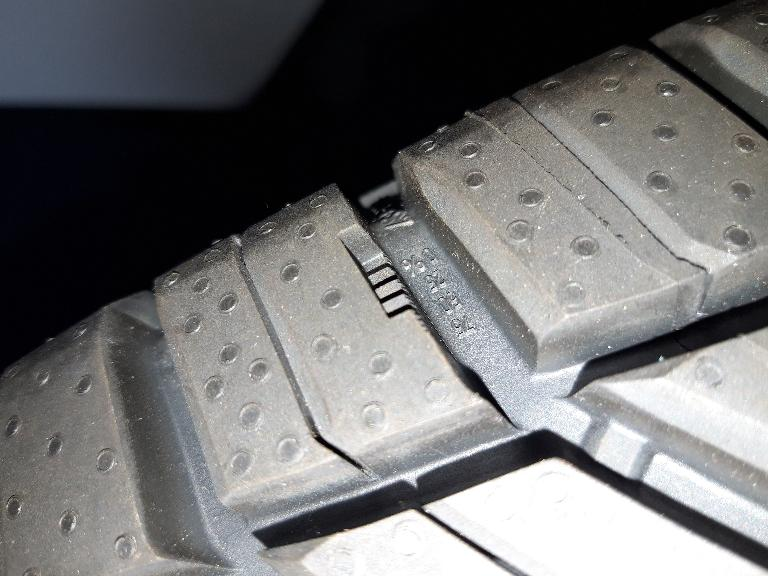temoin:100: (336, 222, 429, 334)
